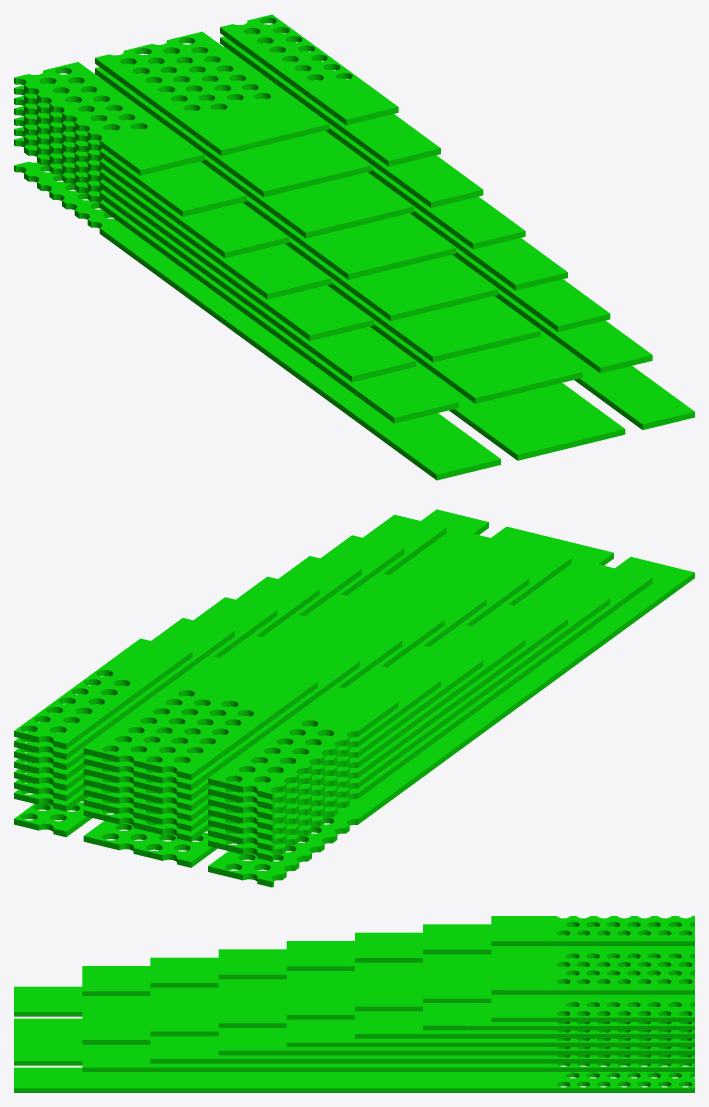
Rendered from NitrideSteps.fbx.
The picture shows the model from 3 angles, top to bottom: view 1: azimuth 30°, elevation 25°; view 2: azimuth 150°, elevation 25°; view 3: azimuth 270°, elevation 25°; orthographic projection. The views are drawn at different scales.
Visible parts, largest first — view 1: NitrideSteps; view 2: NitrideSteps; view 3: NitrideSteps.
Boxes of the visible parts, x1,y1,x2,y2 form: NitrideSteps: (14, 14, 694, 480); NitrideSteps: (14, 509, 694, 887); NitrideSteps: (14, 916, 694, 1092).
Size of the model in its own units: 2258 by 783 by 6404.
